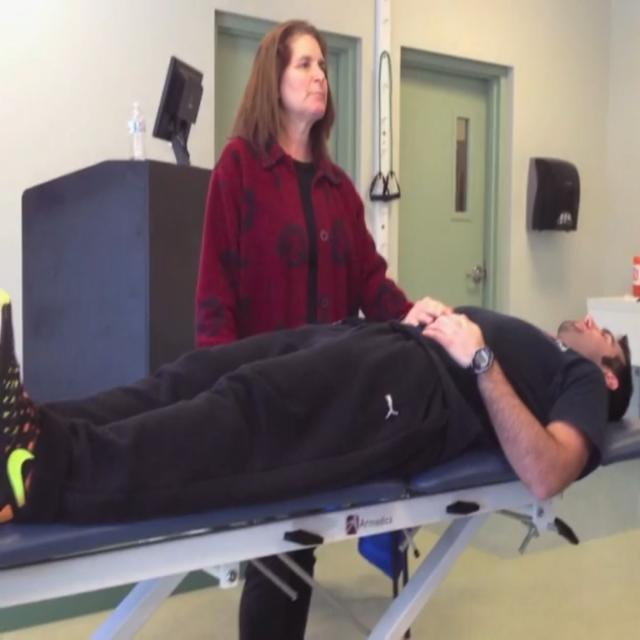deitado: (0, 288, 632, 526)
em_pe: (194, 21, 414, 351), (238, 539, 320, 639)
